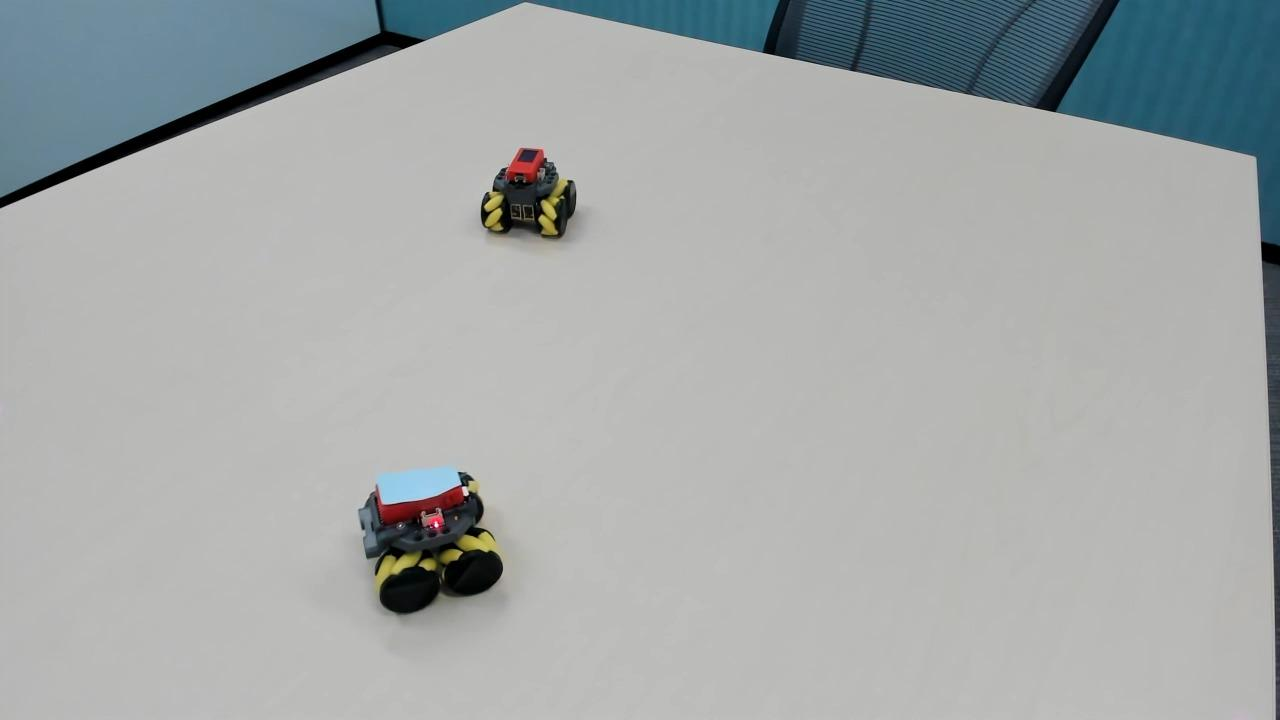B-Robot: (345, 452, 518, 622)
R-Robot: (476, 138, 586, 269)
